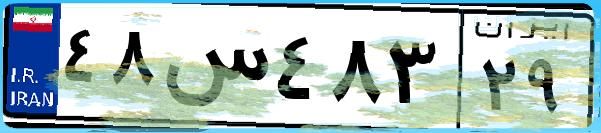2: (475, 38, 525, 113)
3: (385, 28, 445, 110)
4: (270, 28, 330, 110), (57, 26, 110, 100)
8: (330, 28, 385, 110), (110, 28, 158, 98)
9: (525, 38, 570, 115)
س: (158, 20, 270, 120)
